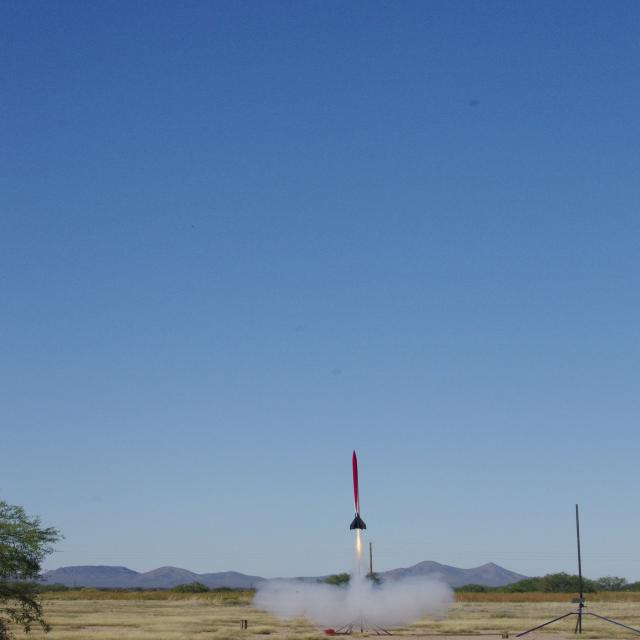Rocket: (349, 449, 368, 531)
